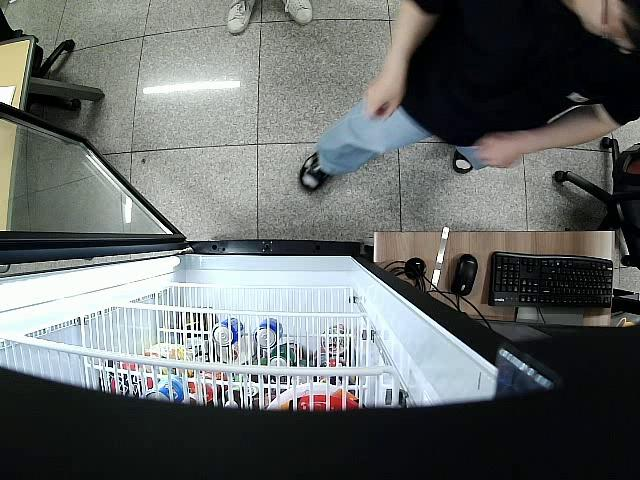00_hand: (359, 70, 405, 123), (466, 135, 519, 174)
